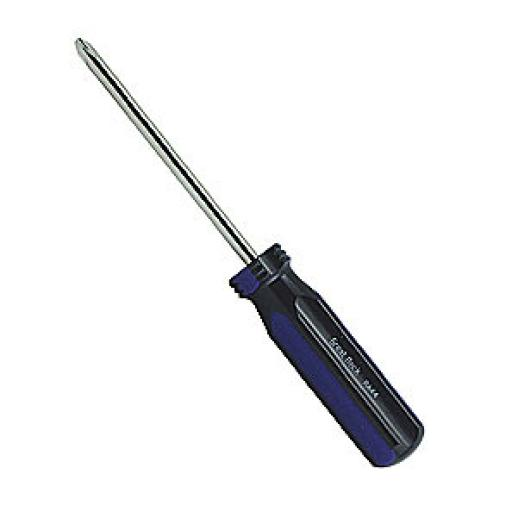screwdriver: (74, 39, 424, 470)
